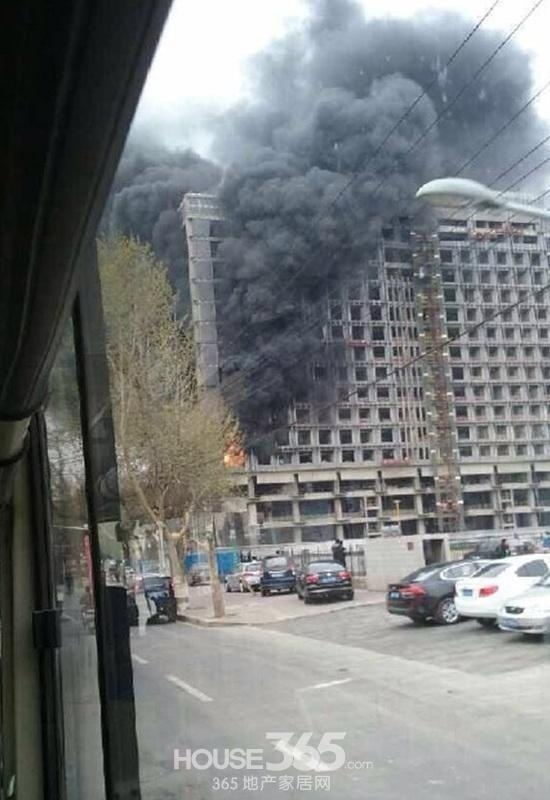fire: (223, 439, 247, 466)
